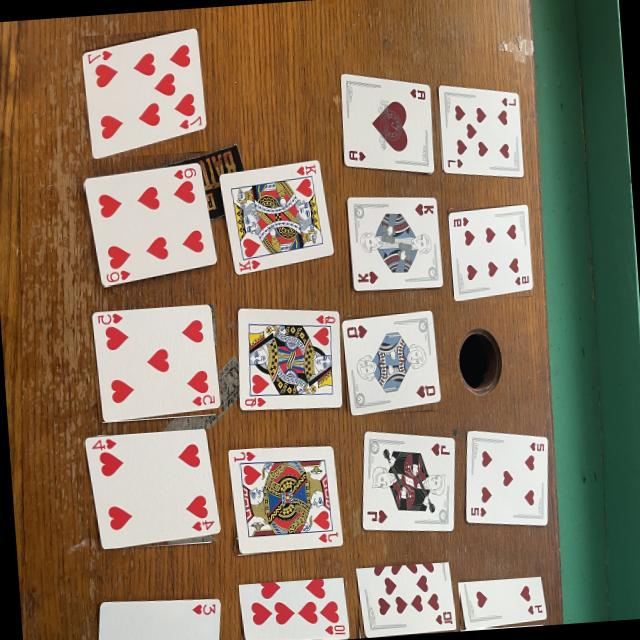10 of hearts: (355, 562, 455, 637), (237, 577, 348, 640)
3 of hearts: (97, 599, 219, 640)
4 of hearts: (83, 429, 219, 549), (458, 577, 545, 629)
5 of hearts: (90, 305, 219, 421), (464, 431, 547, 526)
6 of hearts: (83, 163, 215, 286), (447, 204, 531, 300)
7 of hearts: (81, 28, 205, 158), (436, 84, 522, 177)
Ace of hearts: (338, 74, 432, 174)
Jack of hearts: (227, 446, 342, 554), (361, 431, 453, 532)
King of hearts: (219, 160, 332, 274), (345, 196, 442, 291)
Queen of hearts: (237, 308, 341, 411), (340, 311, 439, 415)
